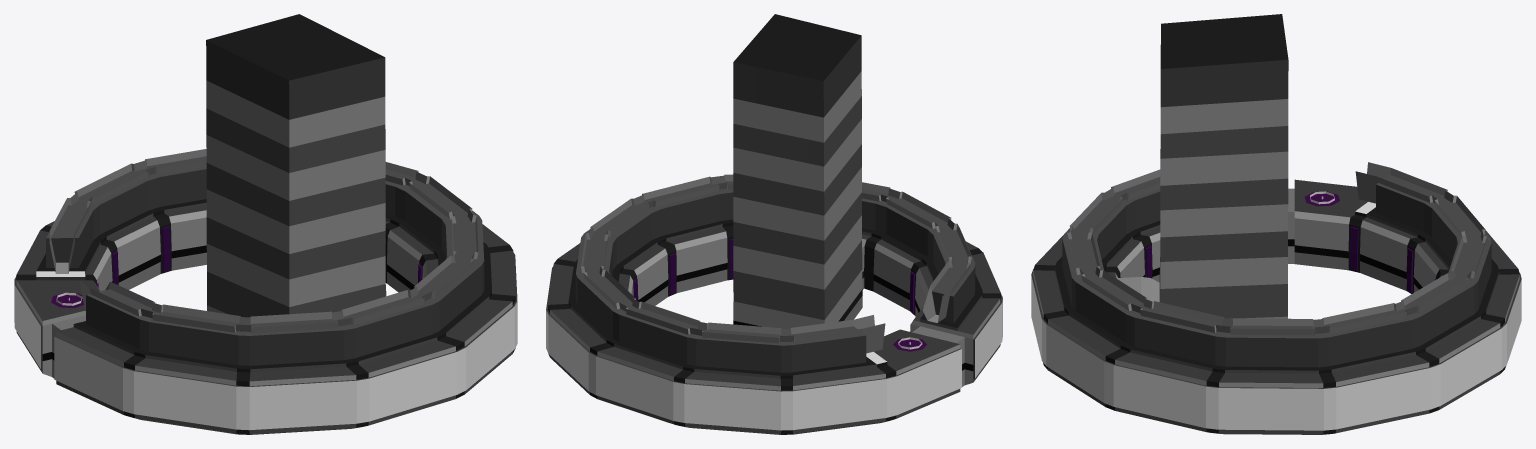
The model's file is mainScene.glb.
The picture shows the model from 3 angles, left to right: view 1: azimuth 30°, elevation 25°; view 2: azimuth 150°, elevation 25°; view 3: azimuth 270°, elevation 25°; orthographic projection. The views are drawn at different scales.
Parts seen in each view (by area): view 1: body, body.001, body.002; view 2: body, body.001, body.002; view 3: body, body.001, body.002.
Boxes of the visible parts, x1,y1,x2,y2 form: body: [14, 14, 517, 434]; body.001: [36, 156, 491, 369]; body.002: [49, 149, 478, 333]; body: [546, 14, 1002, 434]; body.001: [568, 181, 982, 375]; body.002: [581, 174, 971, 353]; body: [1031, 14, 1521, 434]; body.001: [1055, 174, 1499, 370]; body.002: [1067, 162, 1486, 335].
Size of the model in its own units: 80.62 by 54.53 by 81.29.
Materials: 4 (1 with a texture image).
